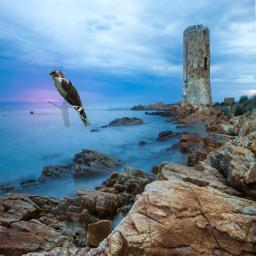Cuckoo: (48, 70, 91, 127)
